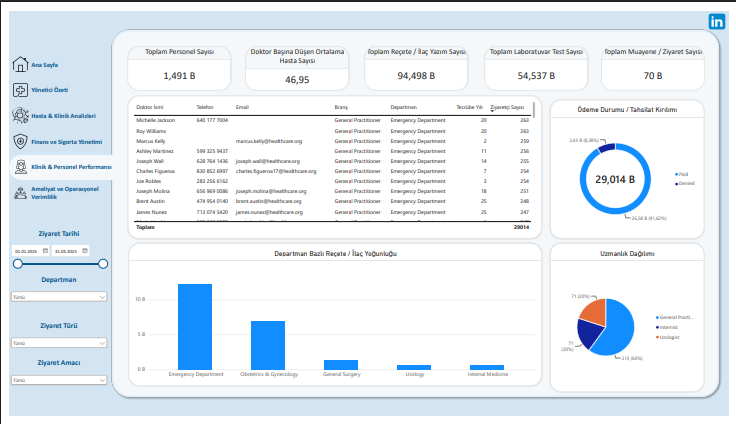

The dashboard page shown, as its layout file describes it:
{"tool":"powerbi","page":{"name":"Yönetici Özeti","canvas":[1920,1080],"ordinal":1},"visuals":[{"type":"shape","box":[267.1,41.4,1635.7,995.7],"z":0},{"type":"actionButton","title":"Yönetici Özeti","box":[0,177.1,317.1,68.6],"z":1000},{"type":"image","box":[0,184.3,61.4,52.9],"z":2000},{"type":"actionButton","title":"Yönetici Özeti","box":[0,108.6,254.3,68.6],"z":3000},{"type":"image","box":[5.7,120,50,44.3],"z":4000},{"type":"actionButton","title":"Yönetici Özeti","box":[0,245.7,290,68.6],"z":5000},{"type":"image","box":[5.7,257.1,50,44.3],"z":6000},{"type":"actionButton","title":"Yönetici Özeti","box":[0,314.3,290,68.6],"z":7000},{"type":"image","box":[5.7,325.7,50,44.3],"z":8000},{"type":"actionButton","title":"Yönetici Özeti","box":[0,382.9,290,68.6],"z":9000},{"type":"image","box":[5.7,394.3,50,44.3],"z":10000},{"type":"actionButton","title":"Yönetici Özeti","box":[0,451.4,290,68.6],"z":11000},{"type":"image","box":[5.7,462.9,50,44.3],"z":12000},{"type":"image","box":[1854.3,0,65.7,55.7],"z":13000},{"type":"slicer","title":"Ziyaret Tarihi","fields":{"Values":["encounters.visit_date"]},"box":[0,580,267.1,122.9],"z":14000},{"type":"slicer","title":"Departman","fields":{"Values":["encounters.department"]},"box":[0,702.9,267.1,122.9],"z":15000},{"type":"slicer","title":"Ziyaret Türü","fields":{"Values":["encounters.visit_type"]},"box":[0,825.7,267.1,122.9],"z":16000},{"type":"slicer","title":"Ziyaret Amacı","fields":{"Values":["encounters.admission_type"]},"box":[0,925.7,267.1,122.9],"z":17000},{"type":"cardVisual","title":"Toplam Ziyaret Sayısı","fields":{"Data":["Count(encounters.encounter_id)"]},"box":[317.1,94.3,274.3,117.1],"z":18000},{"type":"cardVisual","title":"Ortalama Yatış Süresi (Gün)","fields":{"Data":["Avg(encounters.length_of_stay)"]},"box":[611.4,94.3,274.3,117.1],"z":19000},{"type":"cardVisual","title":"Toplam Faturalanan Tutar","fields":{"Data":["Sum(claims_and_billing.billed_amount)"]},"box":[908.6,94.3,274.3,117.1],"z":20000},{"type":"cardVisual","title":"Toplam Tahsil Edilen Tutar","fields":{"Data":["Sum(claims_and_billing.paid_amount)"]},"box":[1202.9,94.3,274.3,117.1],"z":21000},{"type":"donutChart","title":"Toplam Faturalanan Tutarın Kırılımları","fields":{"Category":["patients.gender","encounters.department","encounters.visit_type"],"Y":["Sum(claims_and_billing.billed_amount)"]},"box":[1498.6,94.3,355.7,470],"z":22000},{"type":"lineChart","title":"Ziyaretçi Sayıları","fields":{"Category":["encounters.visit_date.Varyasyon.Tarih Hiyerarşisi.Yıl","encounters.visit_date.Varyasyon.Tarih Hiyerarşisi.Ay","encounters.visit_date.Varyasyon.Tarih Hiyerarşisi.Gün"],"Y":["CountNonNull(encounters.encounter_id)"]},"box":[317.1,237.1,568.6,327.1],"z":23000},{"type":"clusteredColumnChart","title":"Ziyaretçi Sayıları","fields":{"Category":["encounters.department"],"Y":["CountNonNull(encounters.encounter_id)"]},"box":[908.6,237.1,568.6,327.1],"z":24000},{"type":"columnChart","title":"Yaş Gruplarına Göre Ziyaretçiler","fields":{"Category":["patients.yas_grubu"],"Y":["CountNonNull(patients.patient_id)"]},"box":[317.1,580,570,381.4],"z":25000},{"type":"columnChart","title":"Aktif Yatis Sayisi","fields":{"Category":["encounters.admission_type"],"Series":["encounters.visit_type"],"Y":["encounters.Aktif_Yatis_Sayisi"]},"box":[908.6,580,411.4,381.4],"z":26000},{"type":"pieChart","title":"Doktorlar","fields":{"Category":["providers.specialty"],"Y":["Count(providers.provider_id)"]},"box":[1340,580,514.3,381.4],"z":27000}]}

Visuals, with their boxes on the page's 1920x1080 design canvas (x1, y1, x2, y2). These are canvas units, not pixel positions in the 736x424 screenshot, which may show the page scaled, cropped or inside an application window:
shape: (x1=267, y1=41, x2=1903, y2=1037)
"Yönetici Özeti" actionButton: (x1=0, y1=177, x2=317, y2=246)
image: (x1=0, y1=184, x2=61, y2=237)
"Yönetici Özeti" actionButton: (x1=0, y1=109, x2=254, y2=177)
image: (x1=6, y1=120, x2=56, y2=164)
"Yönetici Özeti" actionButton: (x1=0, y1=246, x2=290, y2=314)
image: (x1=6, y1=257, x2=56, y2=301)
"Yönetici Özeti" actionButton: (x1=0, y1=314, x2=290, y2=383)
image: (x1=6, y1=326, x2=56, y2=370)
"Yönetici Özeti" actionButton: (x1=0, y1=383, x2=290, y2=452)
image: (x1=6, y1=394, x2=56, y2=439)
"Yönetici Özeti" actionButton: (x1=0, y1=451, x2=290, y2=520)
image: (x1=6, y1=463, x2=56, y2=507)
image: (x1=1854, y1=0, x2=1920, y2=56)
"Ziyaret Tarihi" slicer: (x1=0, y1=580, x2=267, y2=703)
"Departman" slicer: (x1=0, y1=703, x2=267, y2=826)
"Ziyaret Türü" slicer: (x1=0, y1=826, x2=267, y2=949)
"Ziyaret Amacı" slicer: (x1=0, y1=926, x2=267, y2=1049)
"Toplam Ziyaret Sayısı" cardVisual: (x1=317, y1=94, x2=591, y2=211)
"Ortalama Yatış Süresi (Gün)" cardVisual: (x1=611, y1=94, x2=886, y2=211)
"Toplam Faturalanan Tutar" cardVisual: (x1=909, y1=94, x2=1183, y2=211)
"Toplam Tahsil Edilen Tutar" cardVisual: (x1=1203, y1=94, x2=1477, y2=211)
"Toplam Faturalanan Tutarın Kırılımları" donutChart: (x1=1499, y1=94, x2=1854, y2=564)
"Ziyaretçi Sayıları" lineChart: (x1=317, y1=237, x2=886, y2=564)
"Ziyaretçi Sayıları" clusteredColumnChart: (x1=909, y1=237, x2=1477, y2=564)
"Yaş Gruplarına Göre Ziyaretçiler" columnChart: (x1=317, y1=580, x2=887, y2=961)
"Aktif Yatis Sayisi" columnChart: (x1=909, y1=580, x2=1320, y2=961)
"Doktorlar" pieChart: (x1=1340, y1=580, x2=1854, y2=961)
